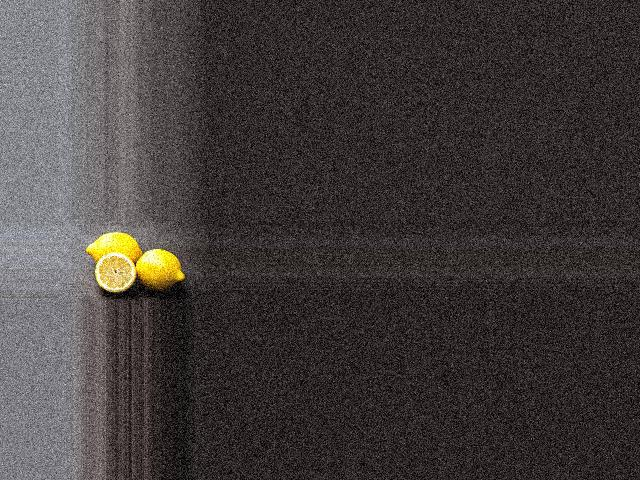lemon: (83, 227, 143, 267)
